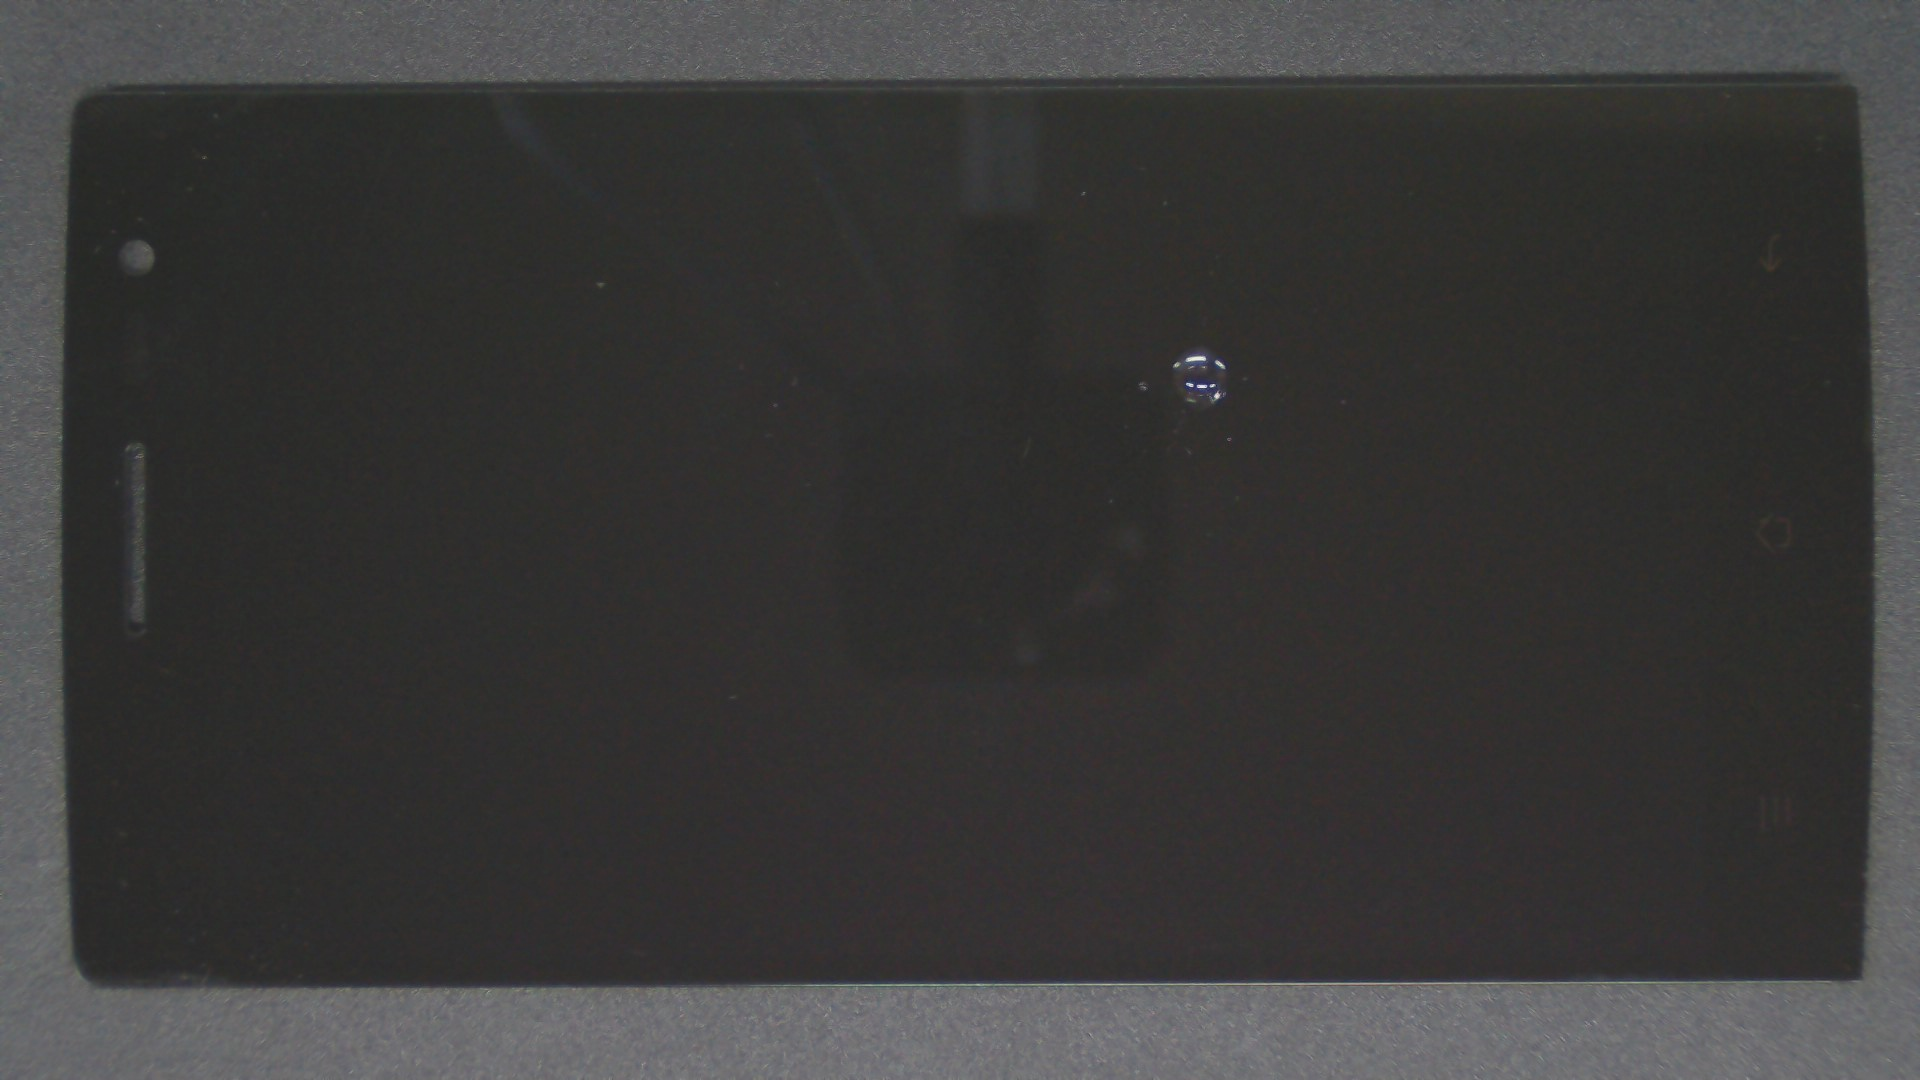oil: (599, 173, 1795, 520)
